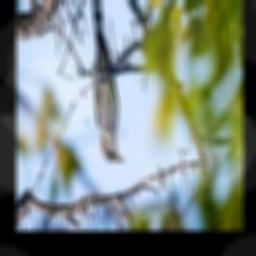Cuckoo: (91, 0, 124, 164)
